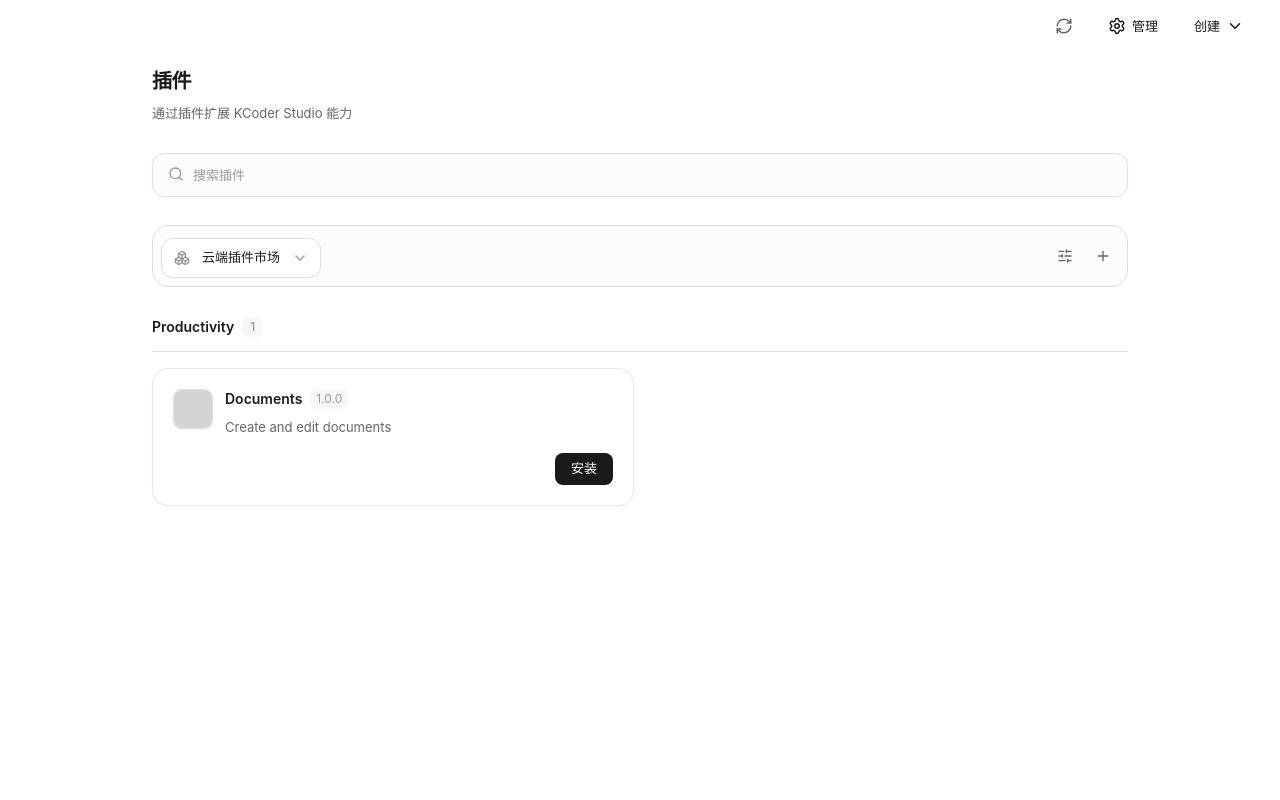
PluginsWorkspace › opens the local marketplace configuration dialog
This screenshot has width=1280, height=800.
Click the button with test id "plugins-add-marketplace-button": [1103, 256] box [1087, 240, 1119, 272]
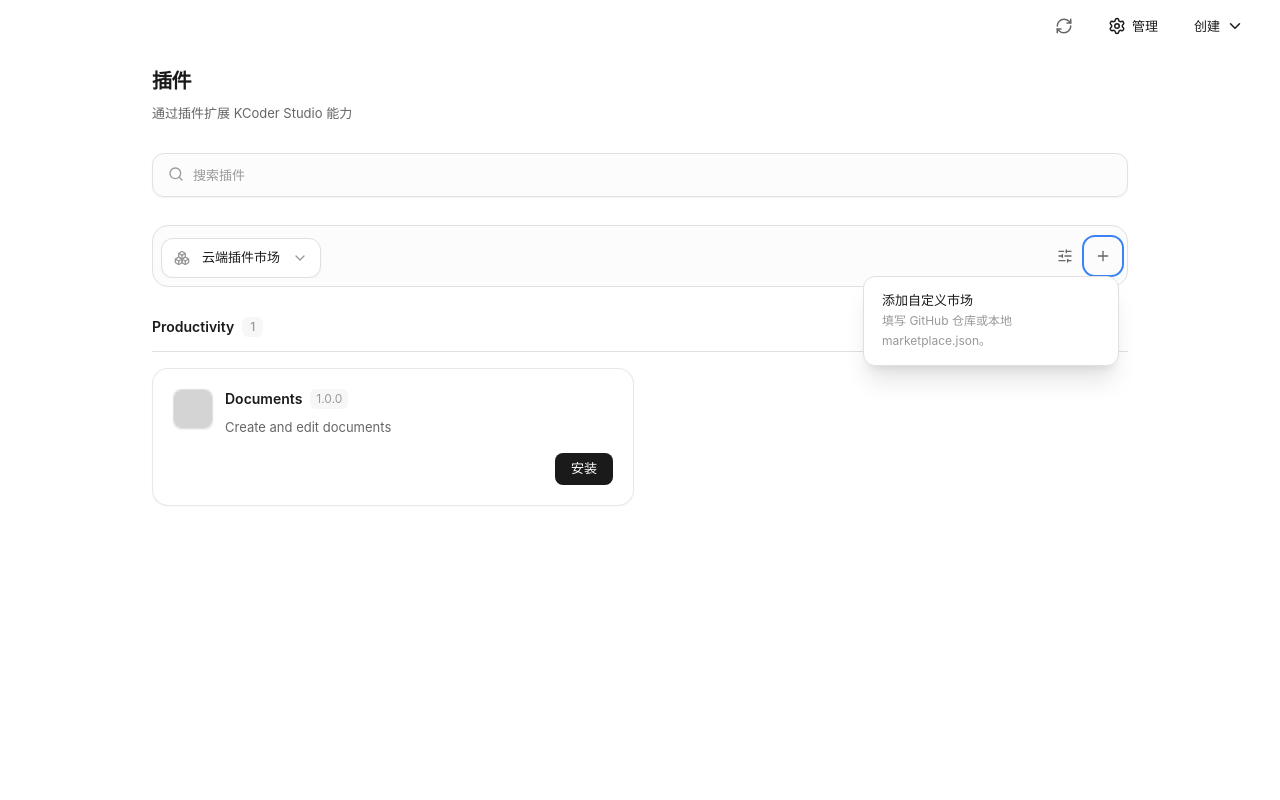
Result: the element with test id "plugins-add-marketplace-menu" is shown at [863, 276, 1119, 366]
Click the button with test id "plugins-add-custom-marketplace-button": [991, 321] box [870, 283, 1112, 359]
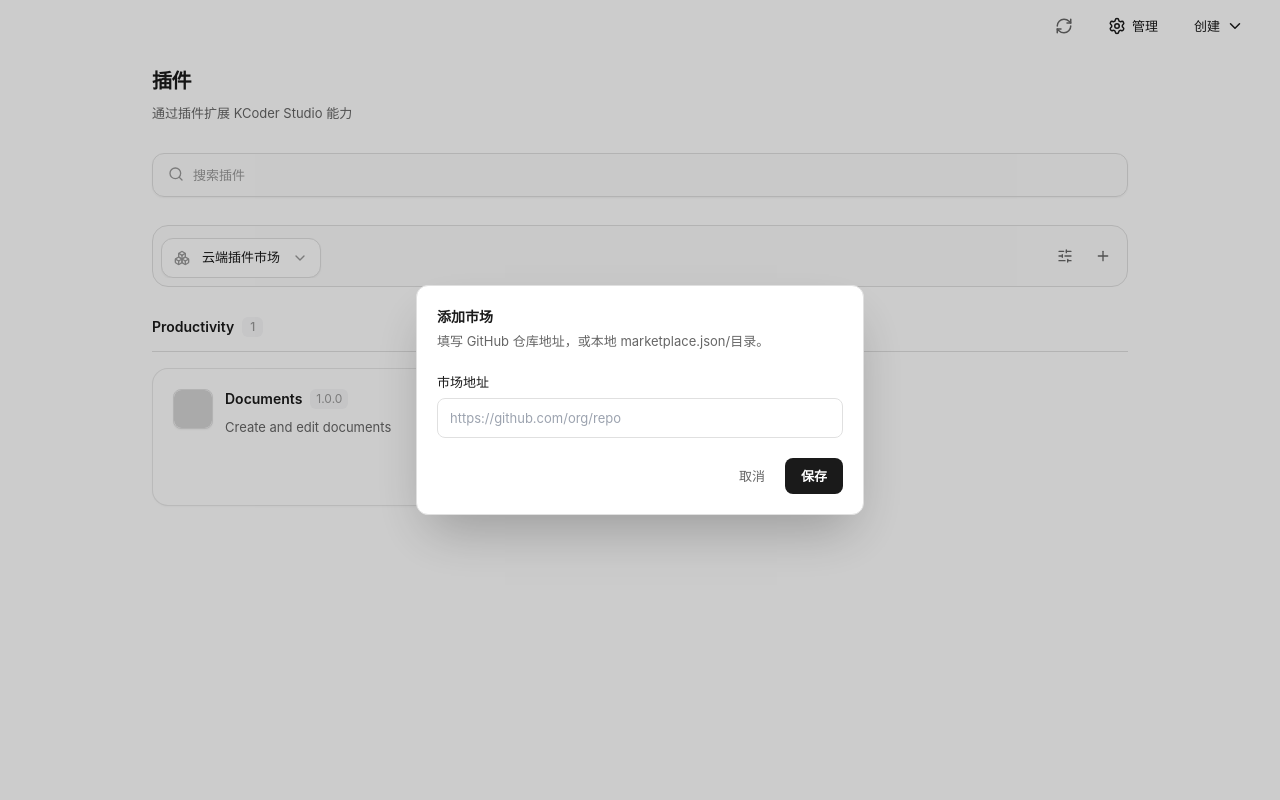
Result: the dialog with test id "plugins-marketplace-config-dialog" is shown at [416, 285, 864, 515]
